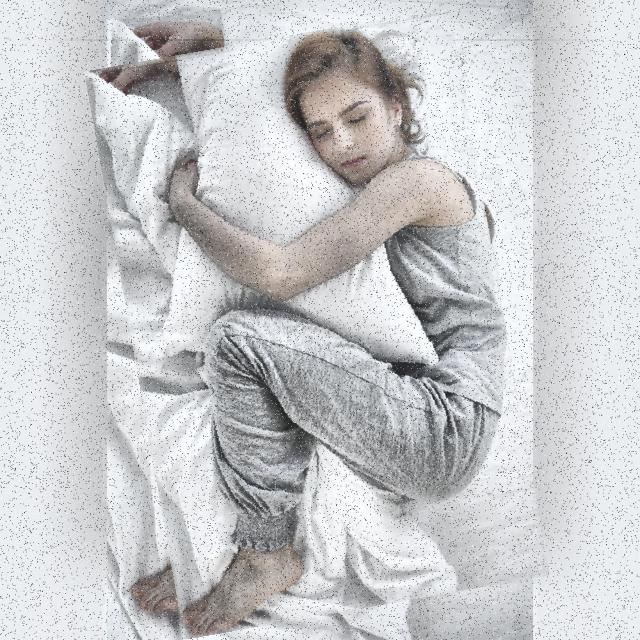Not_Supine: (168, 29, 507, 637)
